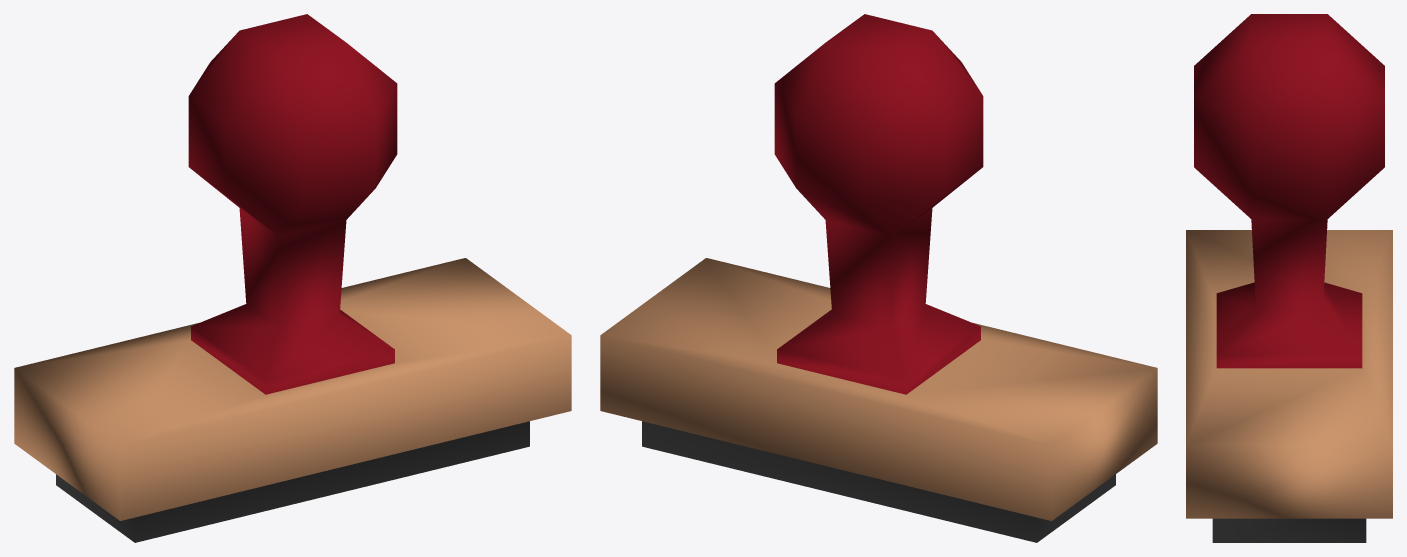
Rendered from mesh_stamp.fbx.
3 views of the same model, side by side, from view 1: azimuth 30°, elevation 25°; view 2: azimuth 150°, elevation 25°; view 3: azimuth 270°, elevation 25° (orthographic). The views are drawn at different scales.
Visible parts, largest first — view 1: mesh_stamp_01; view 2: mesh_stamp_01; view 3: mesh_stamp_01.
Boxes of the visible parts, x1,y1,x2,y2 form: mesh_stamp_01: [14, 14, 571, 542]; mesh_stamp_01: [600, 14, 1157, 542]; mesh_stamp_01: [1186, 14, 1392, 542].
Size of the model in its own units: 5.59 by 5.08 by 2.27.
